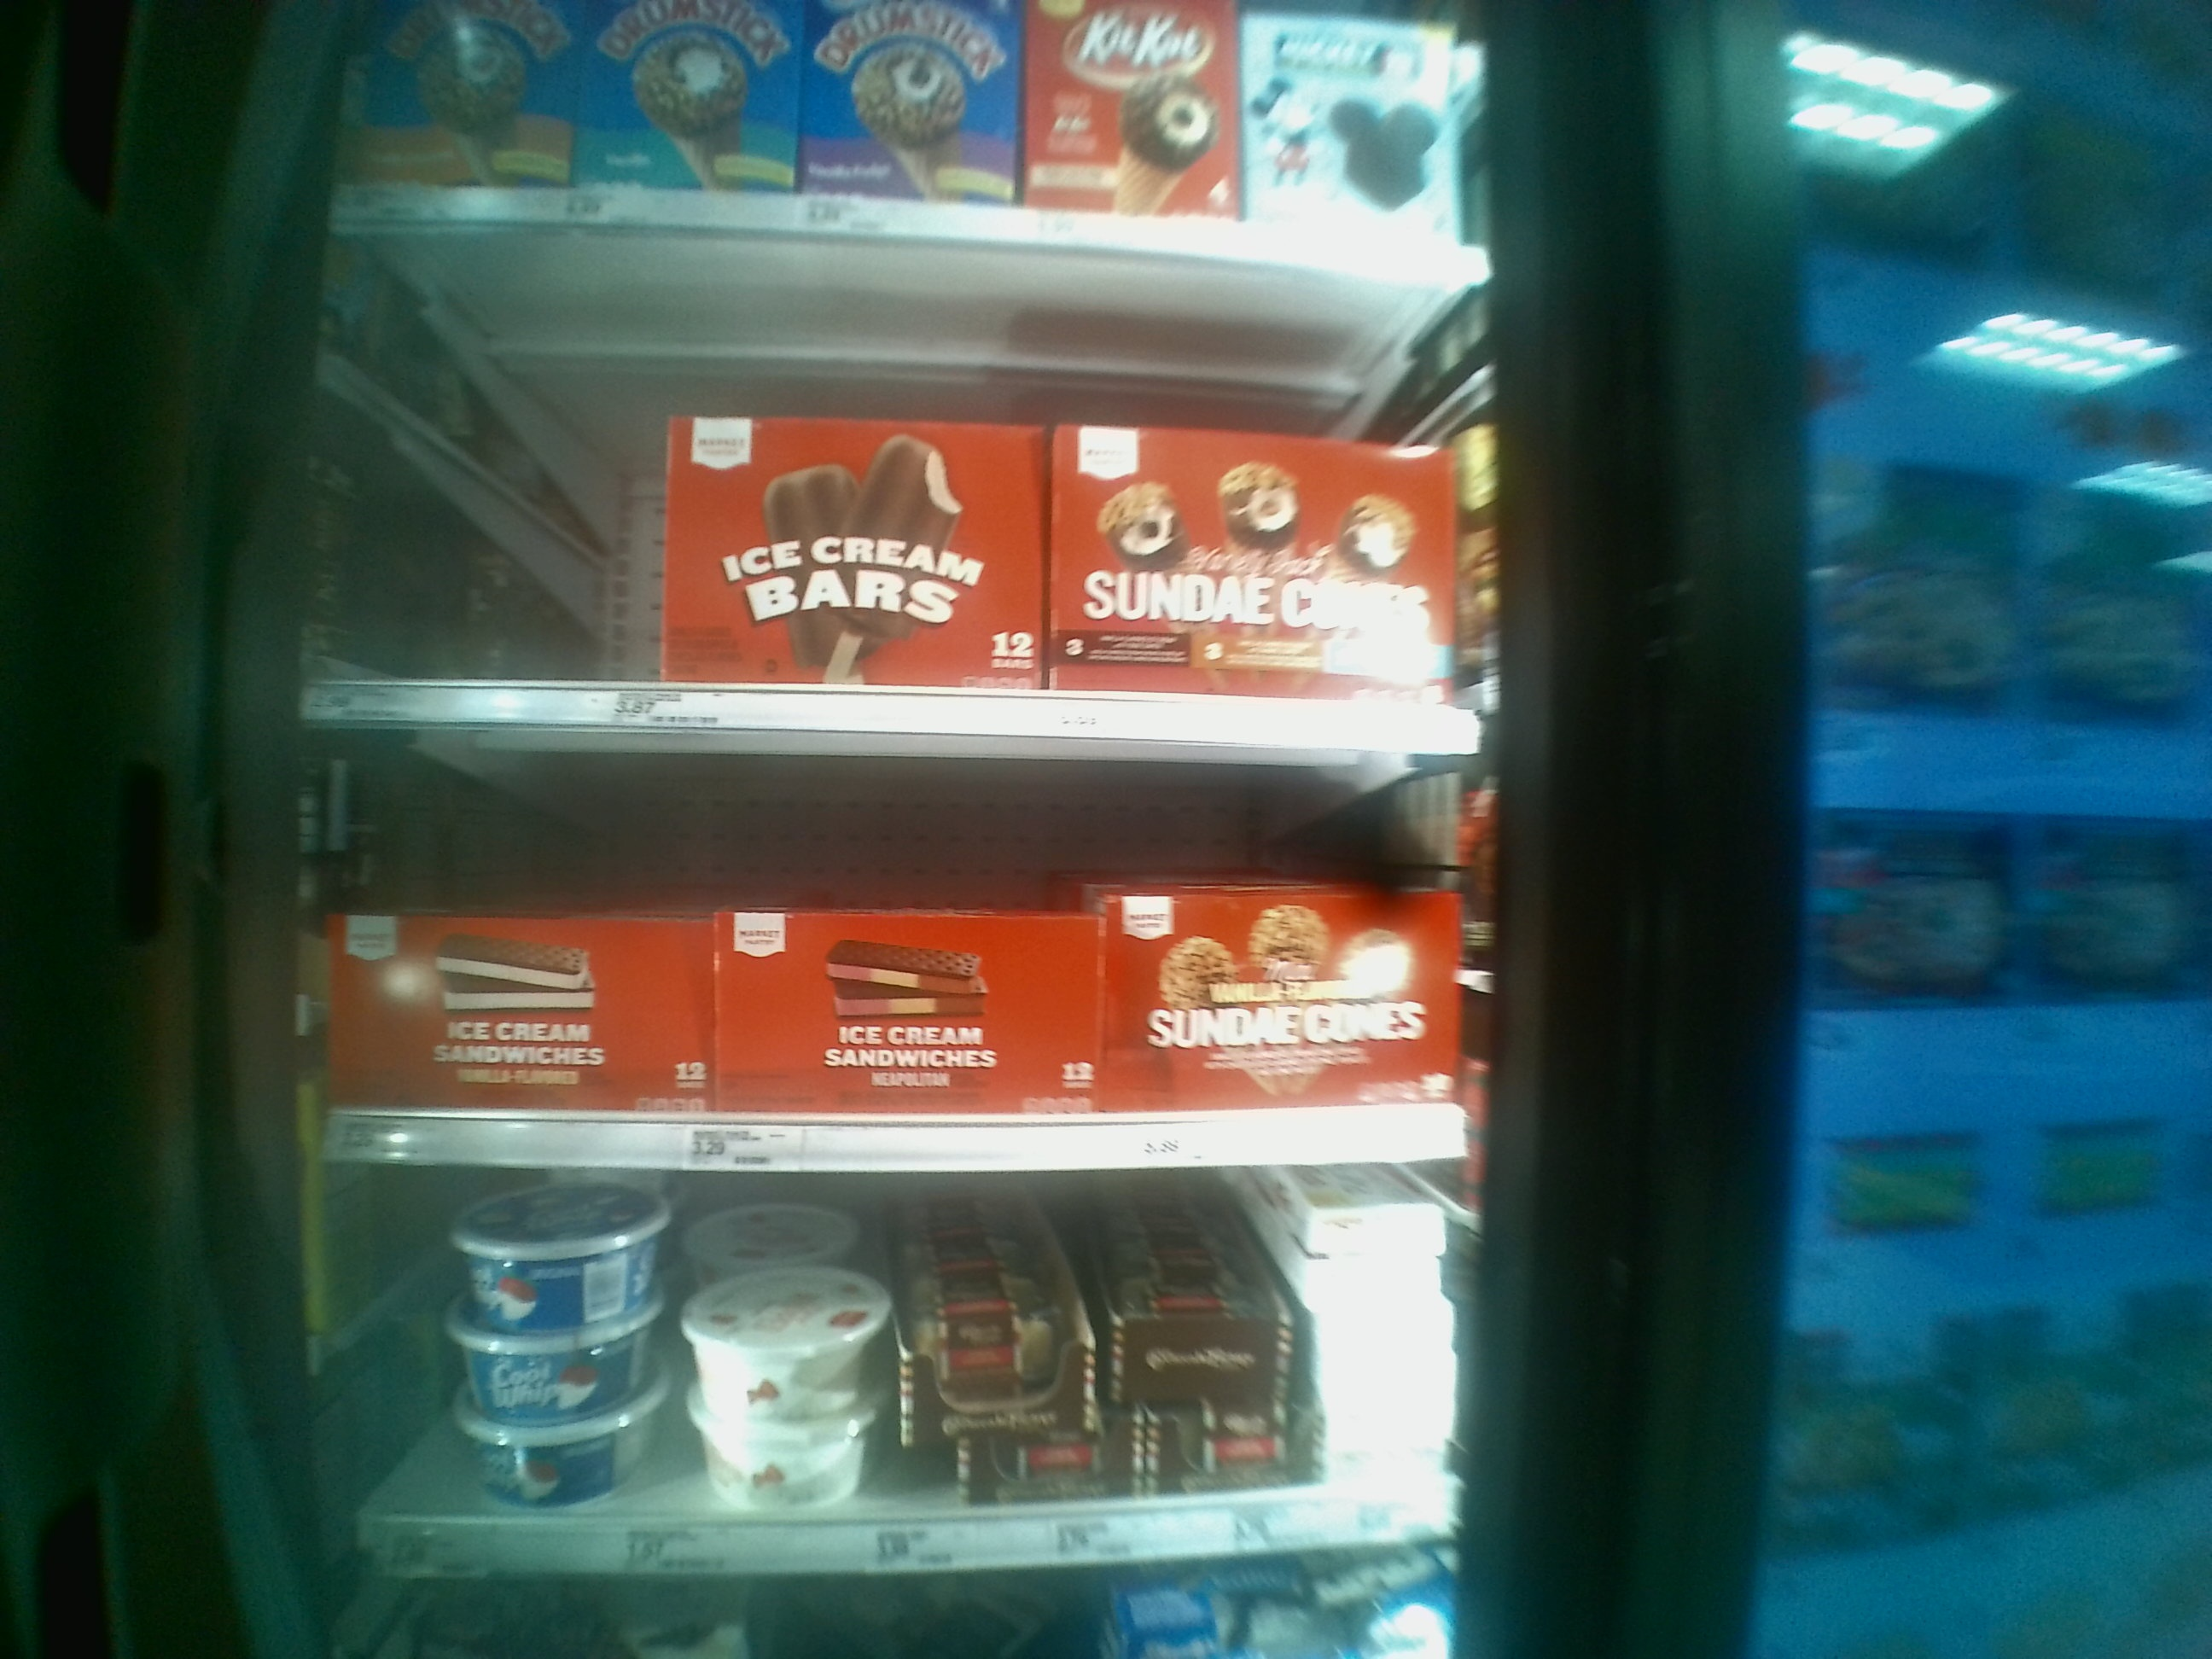shelf: (314, 221, 1498, 744), (301, 711, 1501, 1154), (336, 1159, 1467, 1570)
